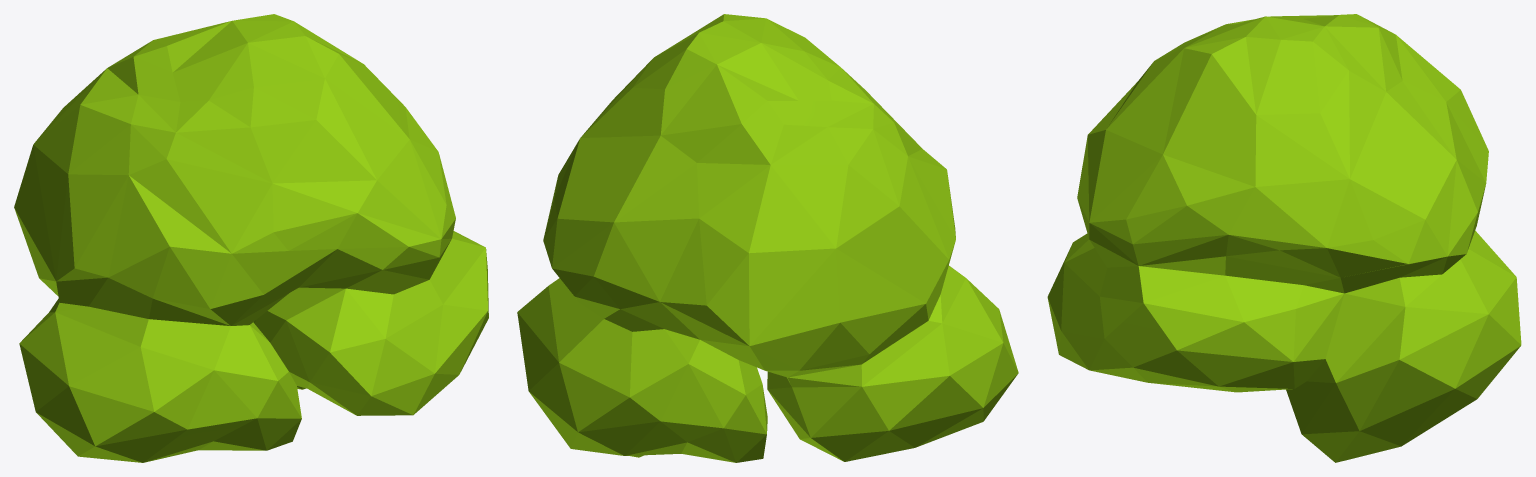
Rendered from lp_tree4_Icosphere_002.obj.
3 views of the same model, side by side, from view 1: azimuth 30°, elevation 25°; view 2: azimuth 150°, elevation 25°; view 3: azimuth 270°, elevation 25° (orthographic).
Visible parts, largest first — view 1: lp_tree4_Icosphere_002; view 2: lp_tree4_Icosphere_002; view 3: lp_tree4_Icosphere_002.
Boxes of the visible parts, <box> form: lp_tree4_Icosphere_002: <box>14,14,488,462</box>; lp_tree4_Icosphere_002: <box>517,14,1018,462</box>; lp_tree4_Icosphere_002: <box>1047,14,1521,462</box>.
Size of the model in its own units: 11.46 by 10.59 by 11.52.
